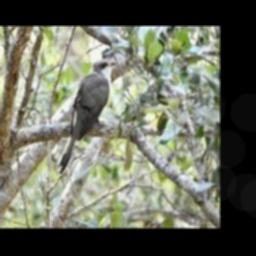Cuckoo: (59, 60, 115, 174)
